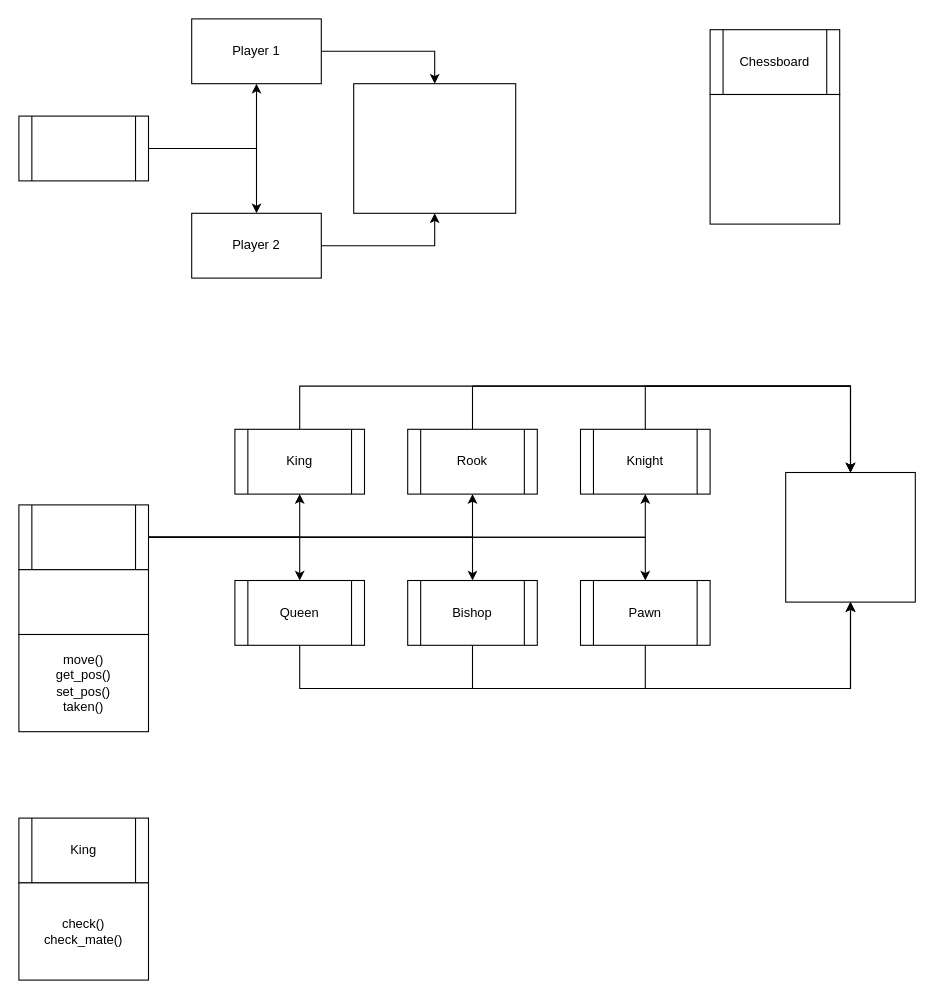
This 934x999 diagram has some shape labels left out. Here are the shapes that lost their labels. From the top down, the centre of each, then its label:
At point (83, 148): "Player".
At point (434, 148): "self.color self.name self.movement_counter".
At point (774, 158): "self.cemetery print_part() print_board() print_cemetery()".
At point (83, 537): "Chessparts".
At point (850, 536): "self.movements".
At point (83, 601): "self.position self.color".
